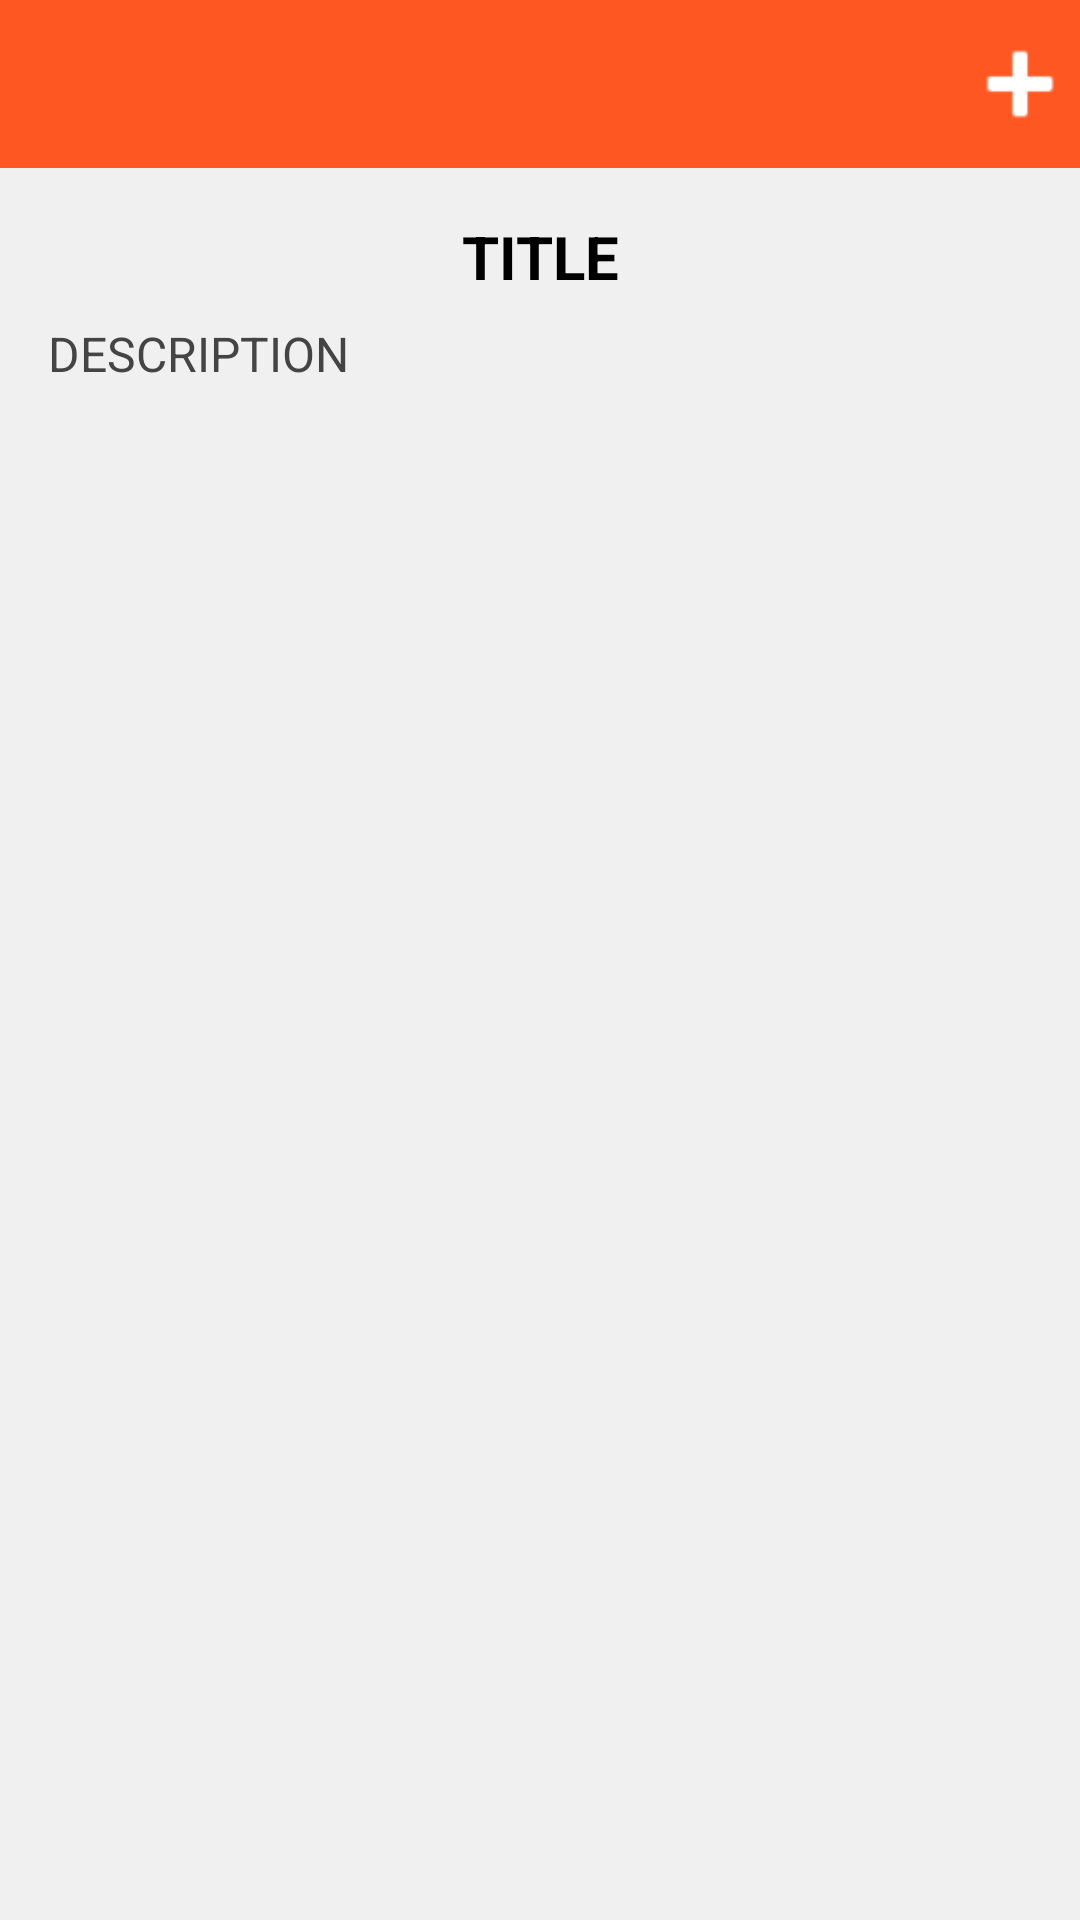

Icons on this 1080w x 1920h Android screen, each with its box as (x1, y1, x2, y2):
add: (986, 50, 1054, 118)
